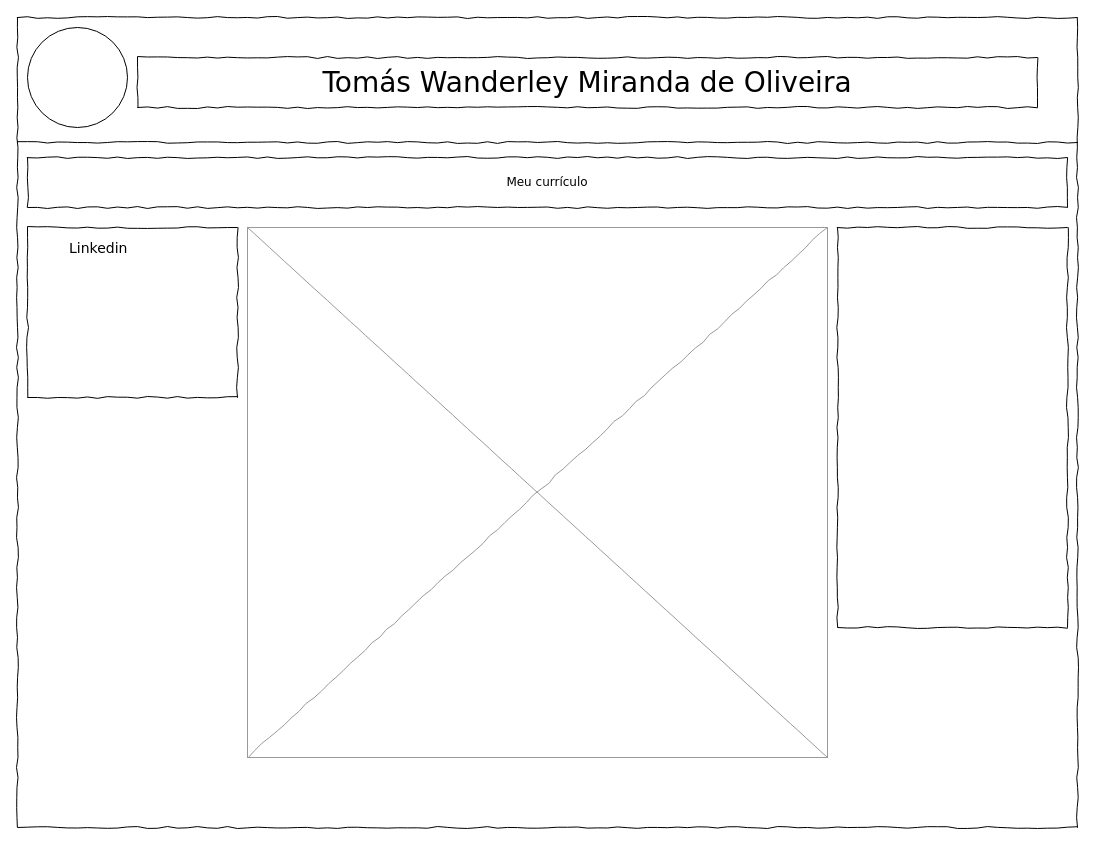
This 1095x845 diagram has some shape labels left out. The box of each missing label's shape, as (x1, y1, x2, y2) in pixels:
foto: (26, 26, 128, 128)
Minhas certificações: (836, 226, 1068, 628)
